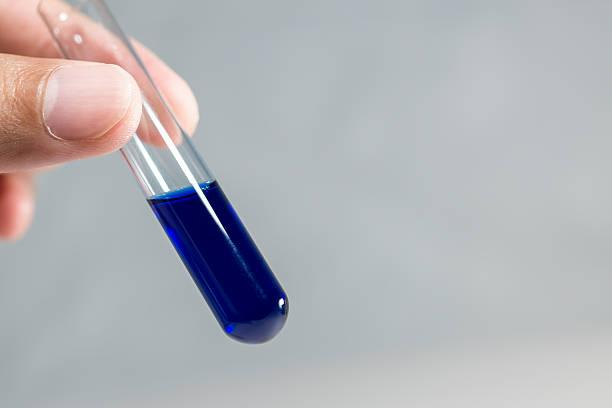Test tube: (26, 13, 298, 339)
